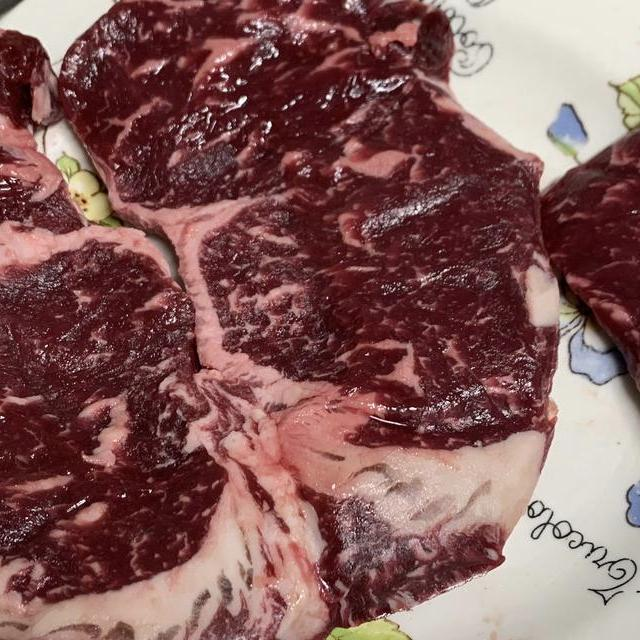beef: (52, 0, 564, 630), (0, 20, 334, 640), (532, 30, 640, 493)
